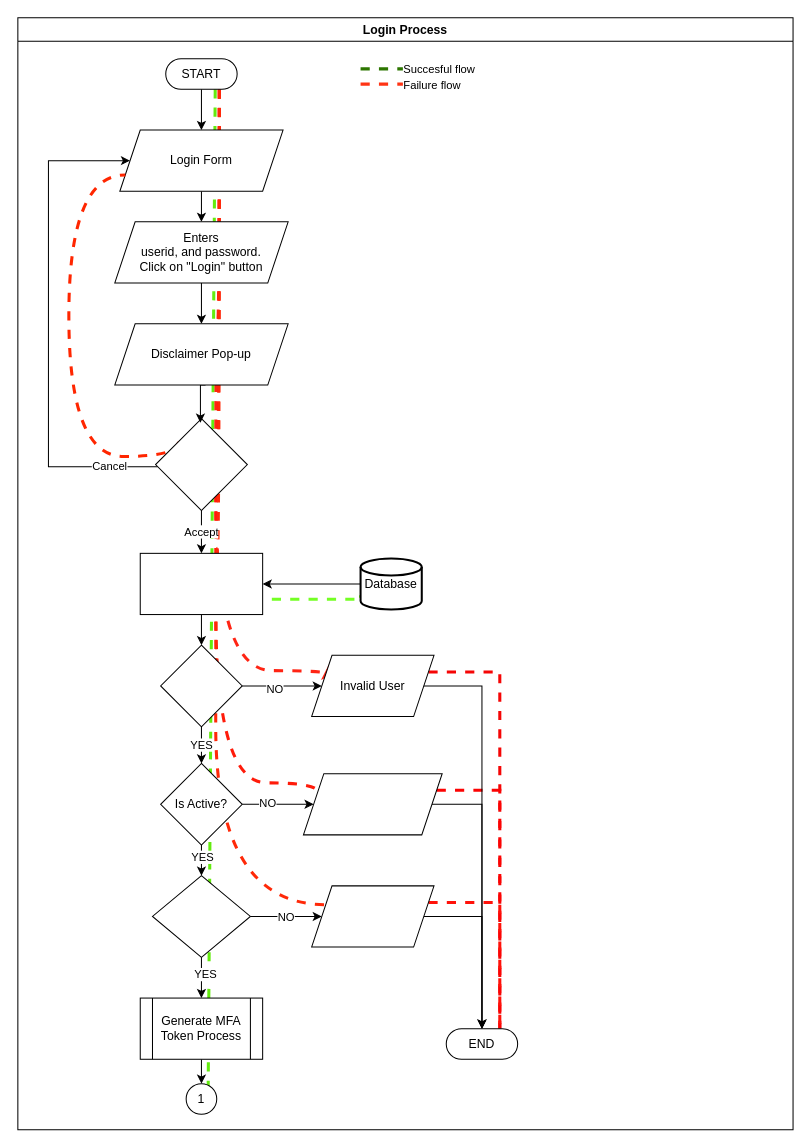
This 811x1148 diagram has some shape labels left out. Here are the shapes that lost their labels. From the top down, the centre of each, then its label:
At [201,464]: "Accept?".
At [201,583]: "Find user in the User database".
At [201,685]: "Is User Exist?".
At [372,804]: "Inactive User/ Contact Operations".
At [200,916]: "Password matched?".
At [372,916]: "Password mismatched".
